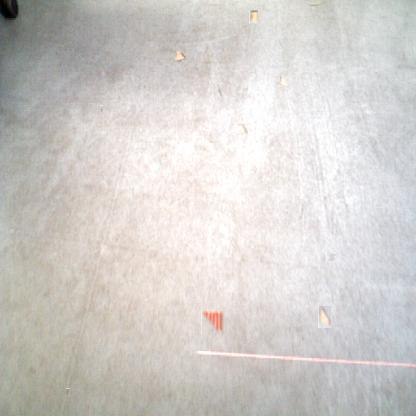dirty: (201, 310, 224, 334), (318, 306, 331, 328), (236, 122, 247, 134), (249, 10, 258, 24), (276, 76, 288, 86), (175, 51, 185, 61), (308, 1, 322, 7)
mark: (298, 200, 304, 220), (214, 83, 222, 97), (328, 252, 337, 260), (99, 105, 103, 114), (66, 388, 70, 397)
